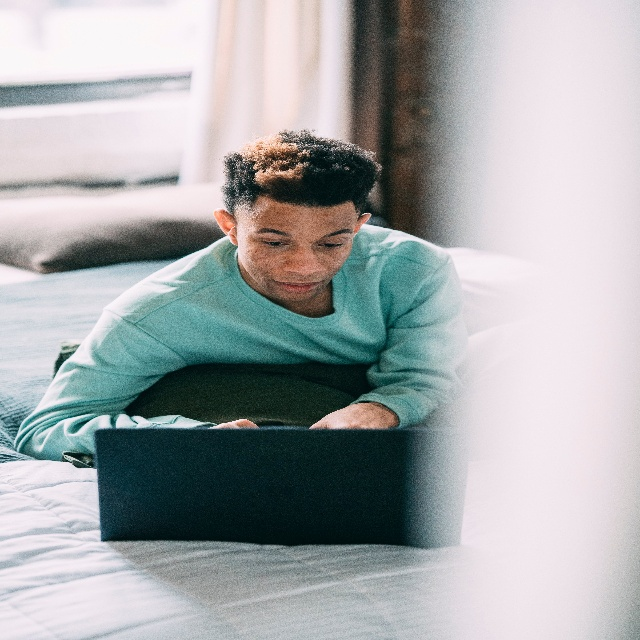Sin_guantes: (306, 395, 399, 433)
